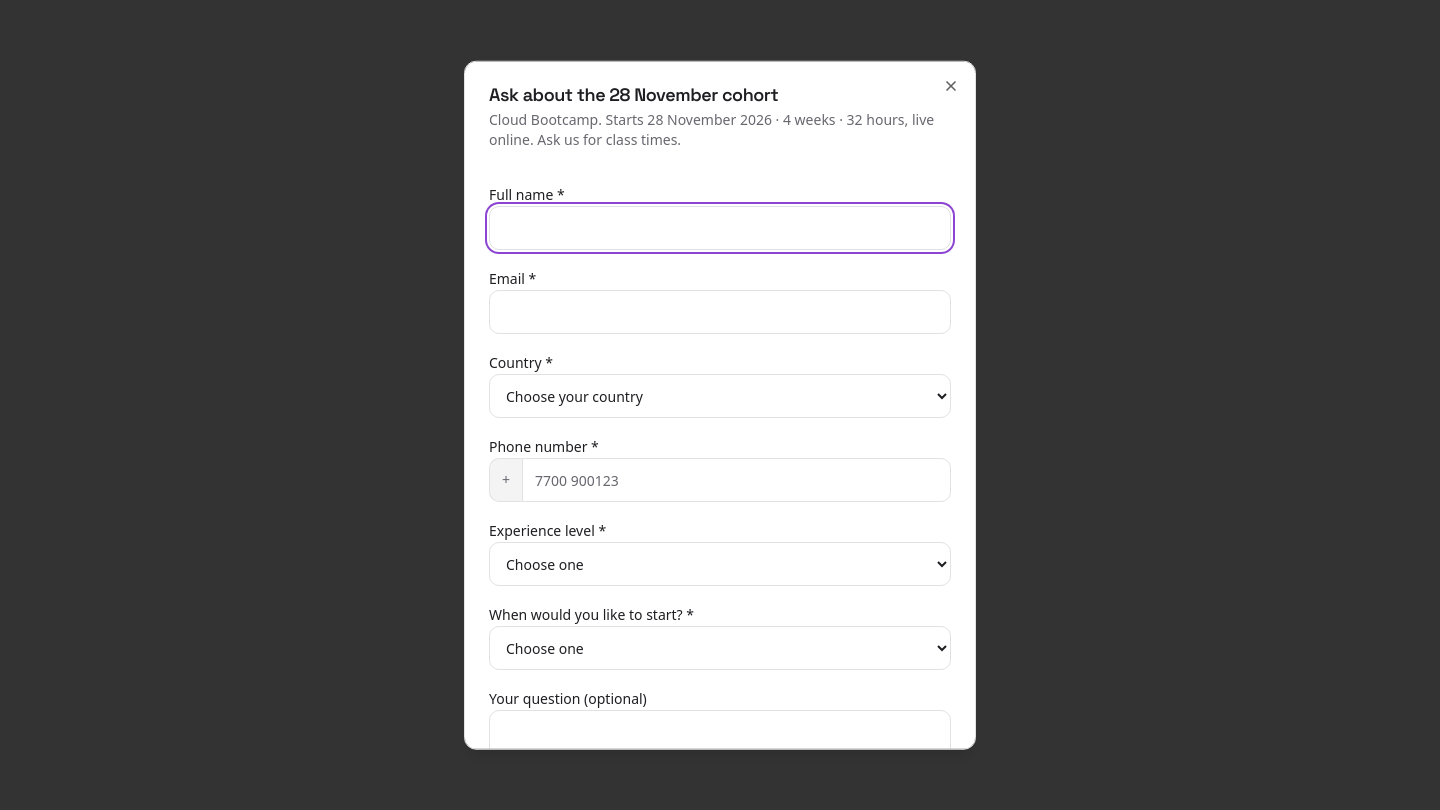
Test: Cloud cohort enquiry › does not track a failed save and keeps the typed answers
Step 1. Type "Ada Test" into the field labelled "Full name *" → (720, 228), box [489,206,951,250]
Step 2. Type "ada@example.test" into the field labelled "Email *" → (720, 312), box [489,290,951,334]
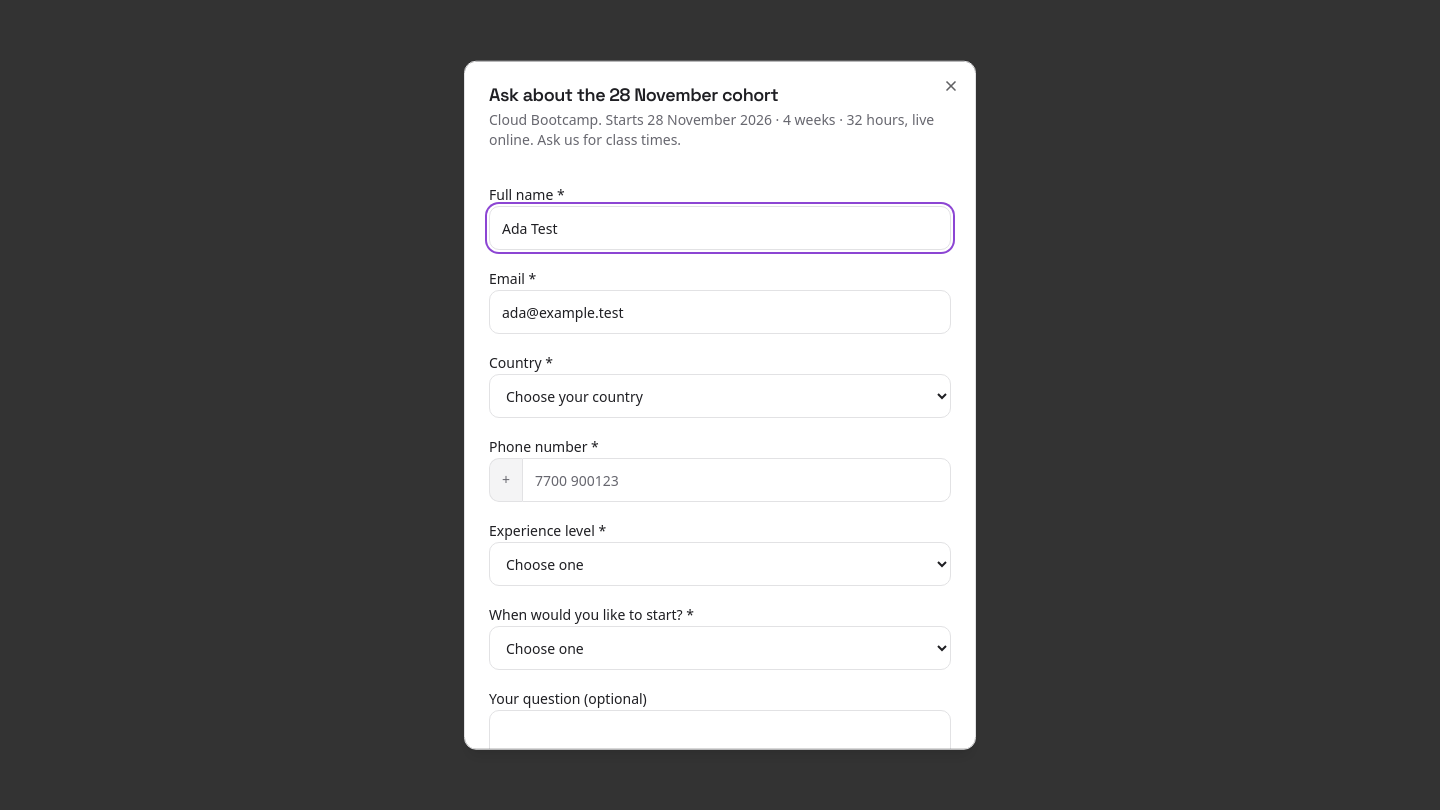
Step 3. Type "+234 801 234 5678" into the field labelled "Phone number *" → (736, 480), box [522,458,951,502]
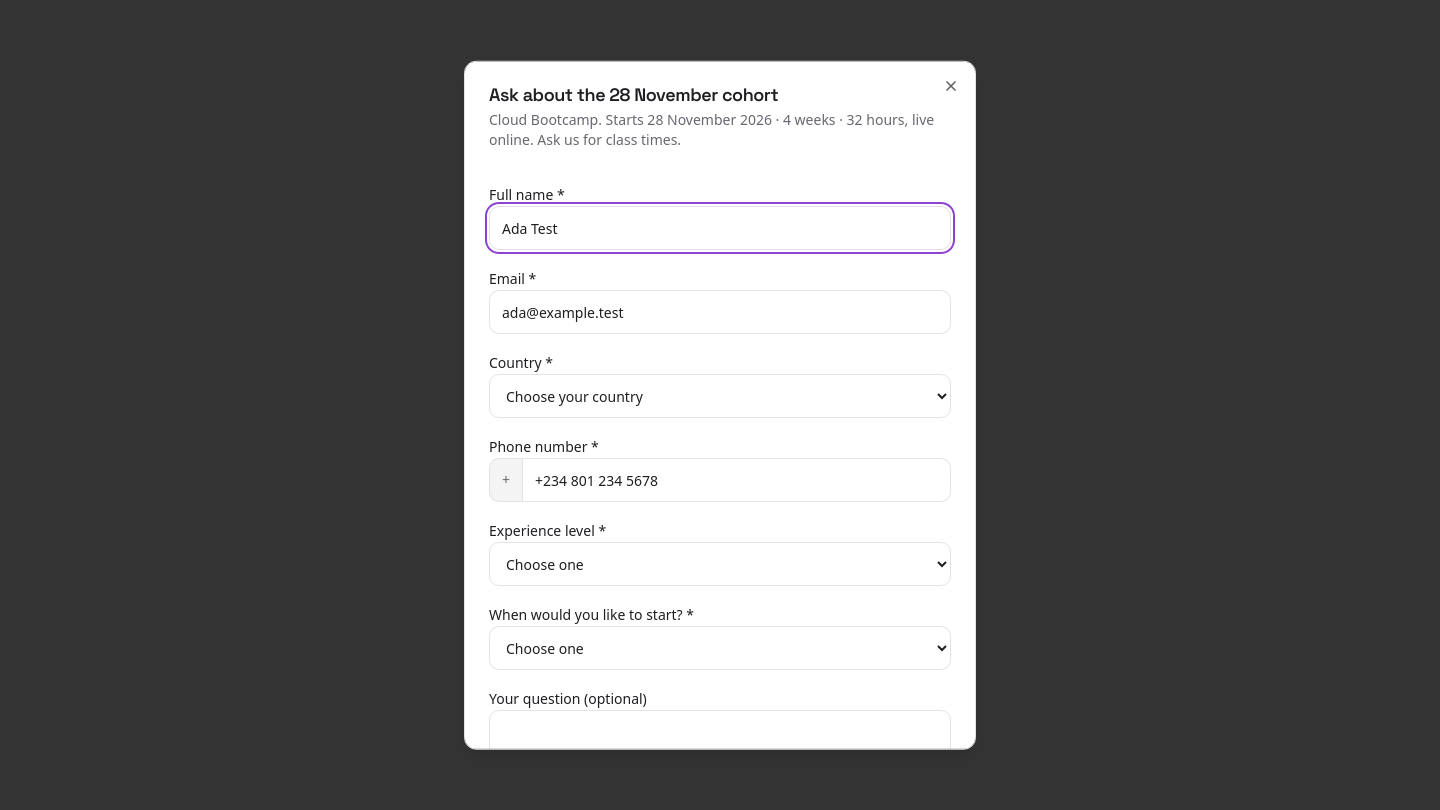
Step 4. Select "Nigeria (+234)" in the dropdown labelled "Country *" → (720, 396), box [489,374,951,418]
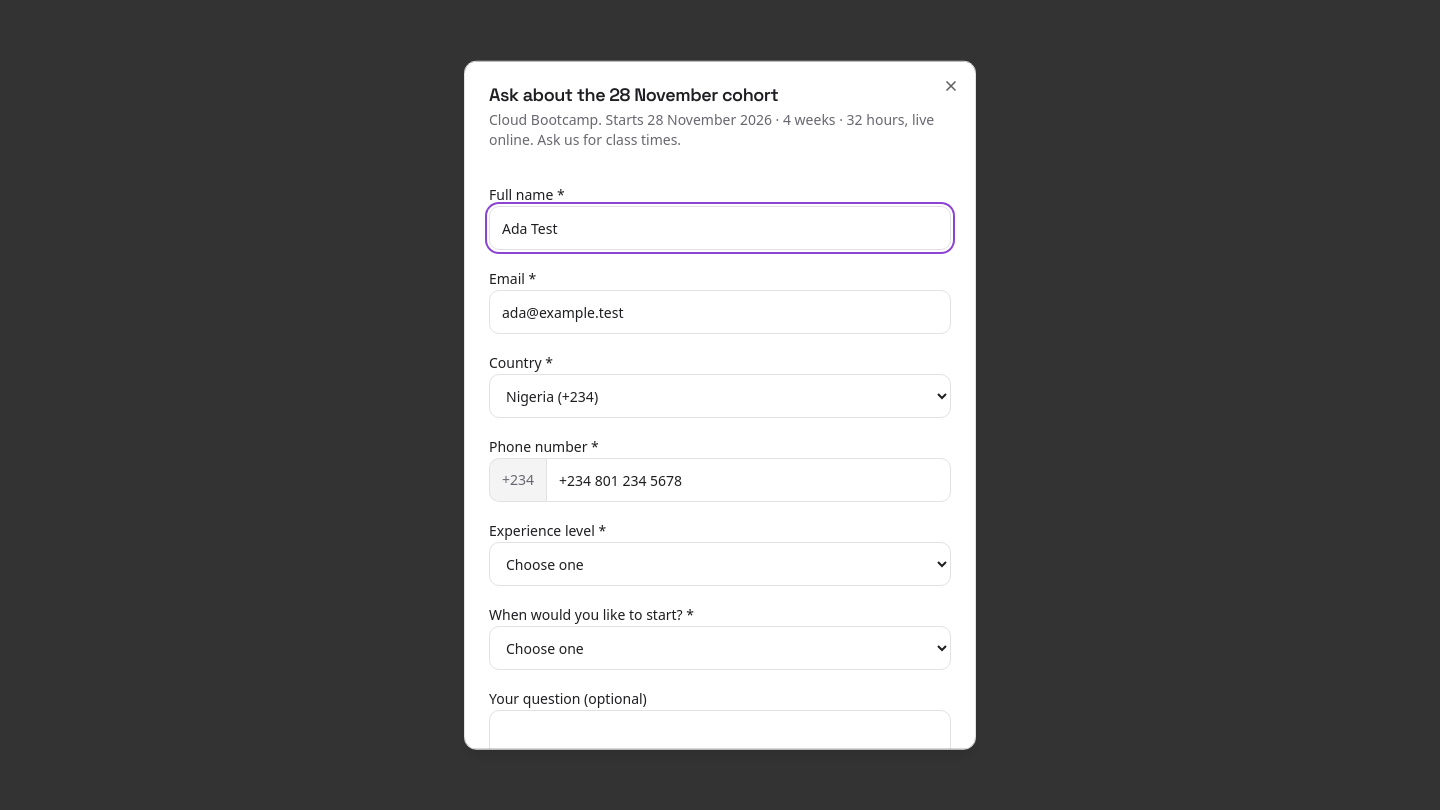
Step 5. Select "Beginner / career changer" in the dropdown labelled "Experience level *" → (720, 564), box [489,542,951,586]
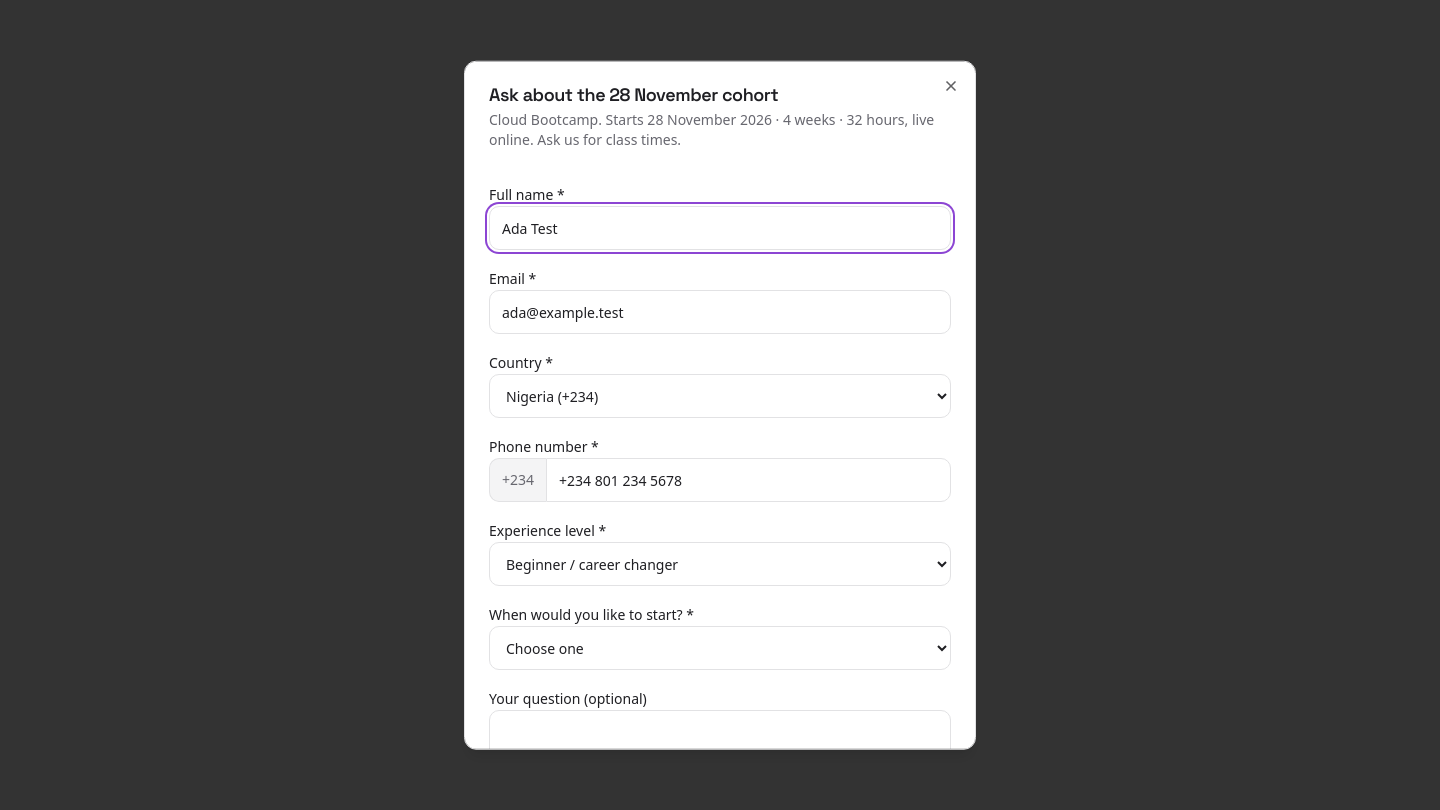
Step 6. Select "28 November 2026" in the dropdown labelled "When would you like to start? *" → (720, 648), box [489,626,951,670]
(page scrolled)
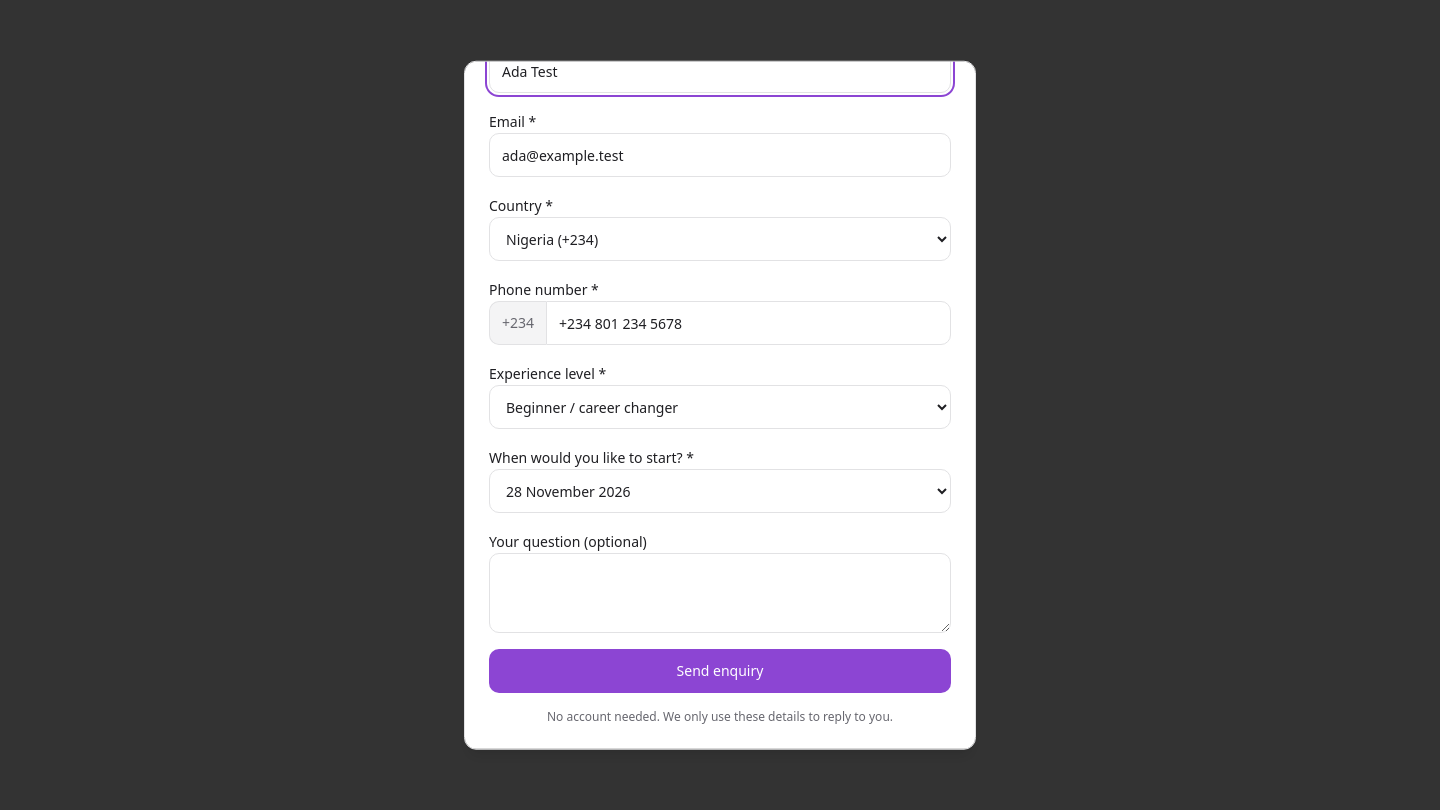
Step 7. Click the button "Send enquiry" → (720, 671), box [489,649,951,693]
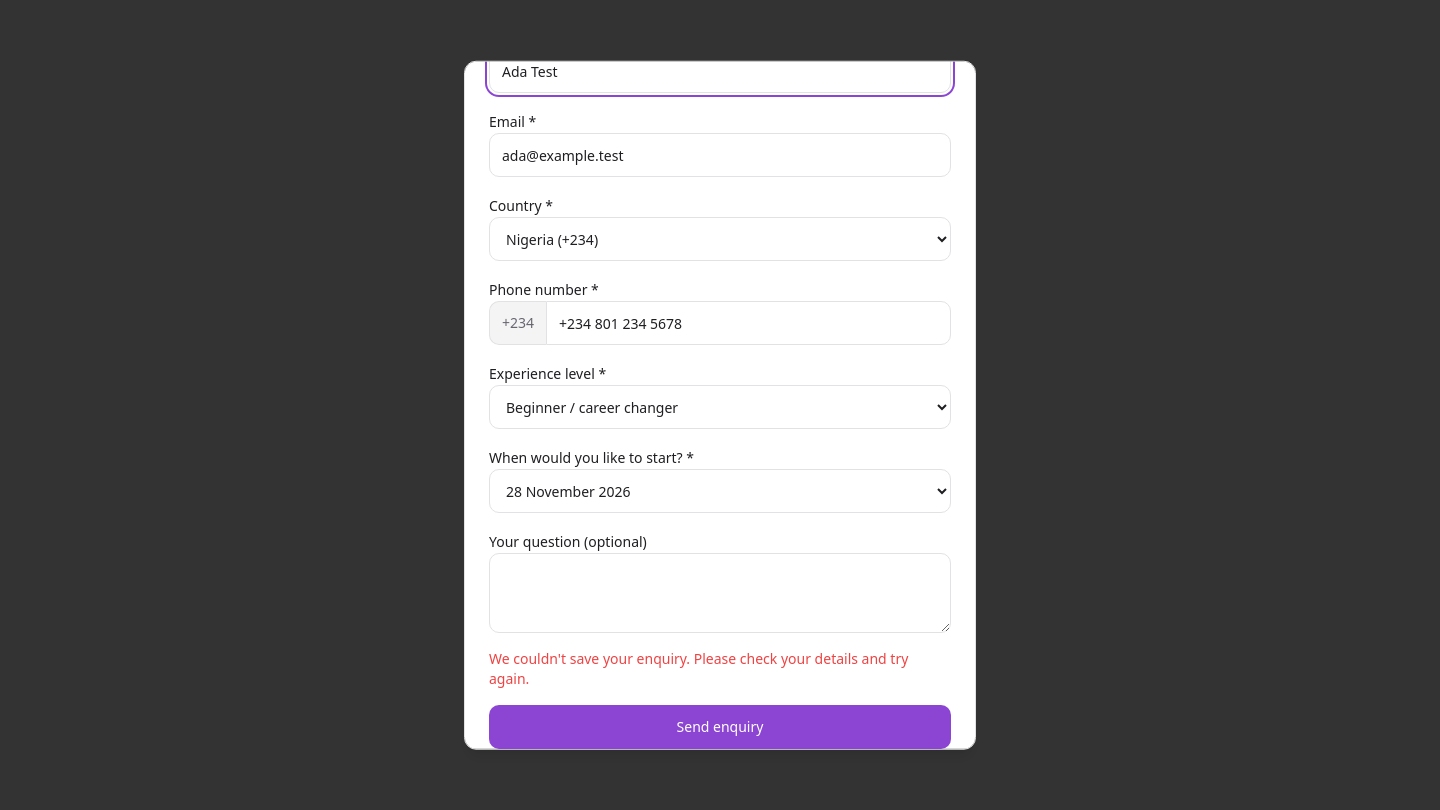
Check: the message "We couldn't save your enquiry. Please check your details and try again." is shown, box [489,649,951,689]
